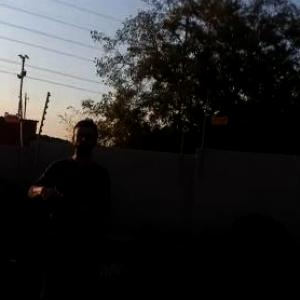follow: (25, 114, 114, 299)
